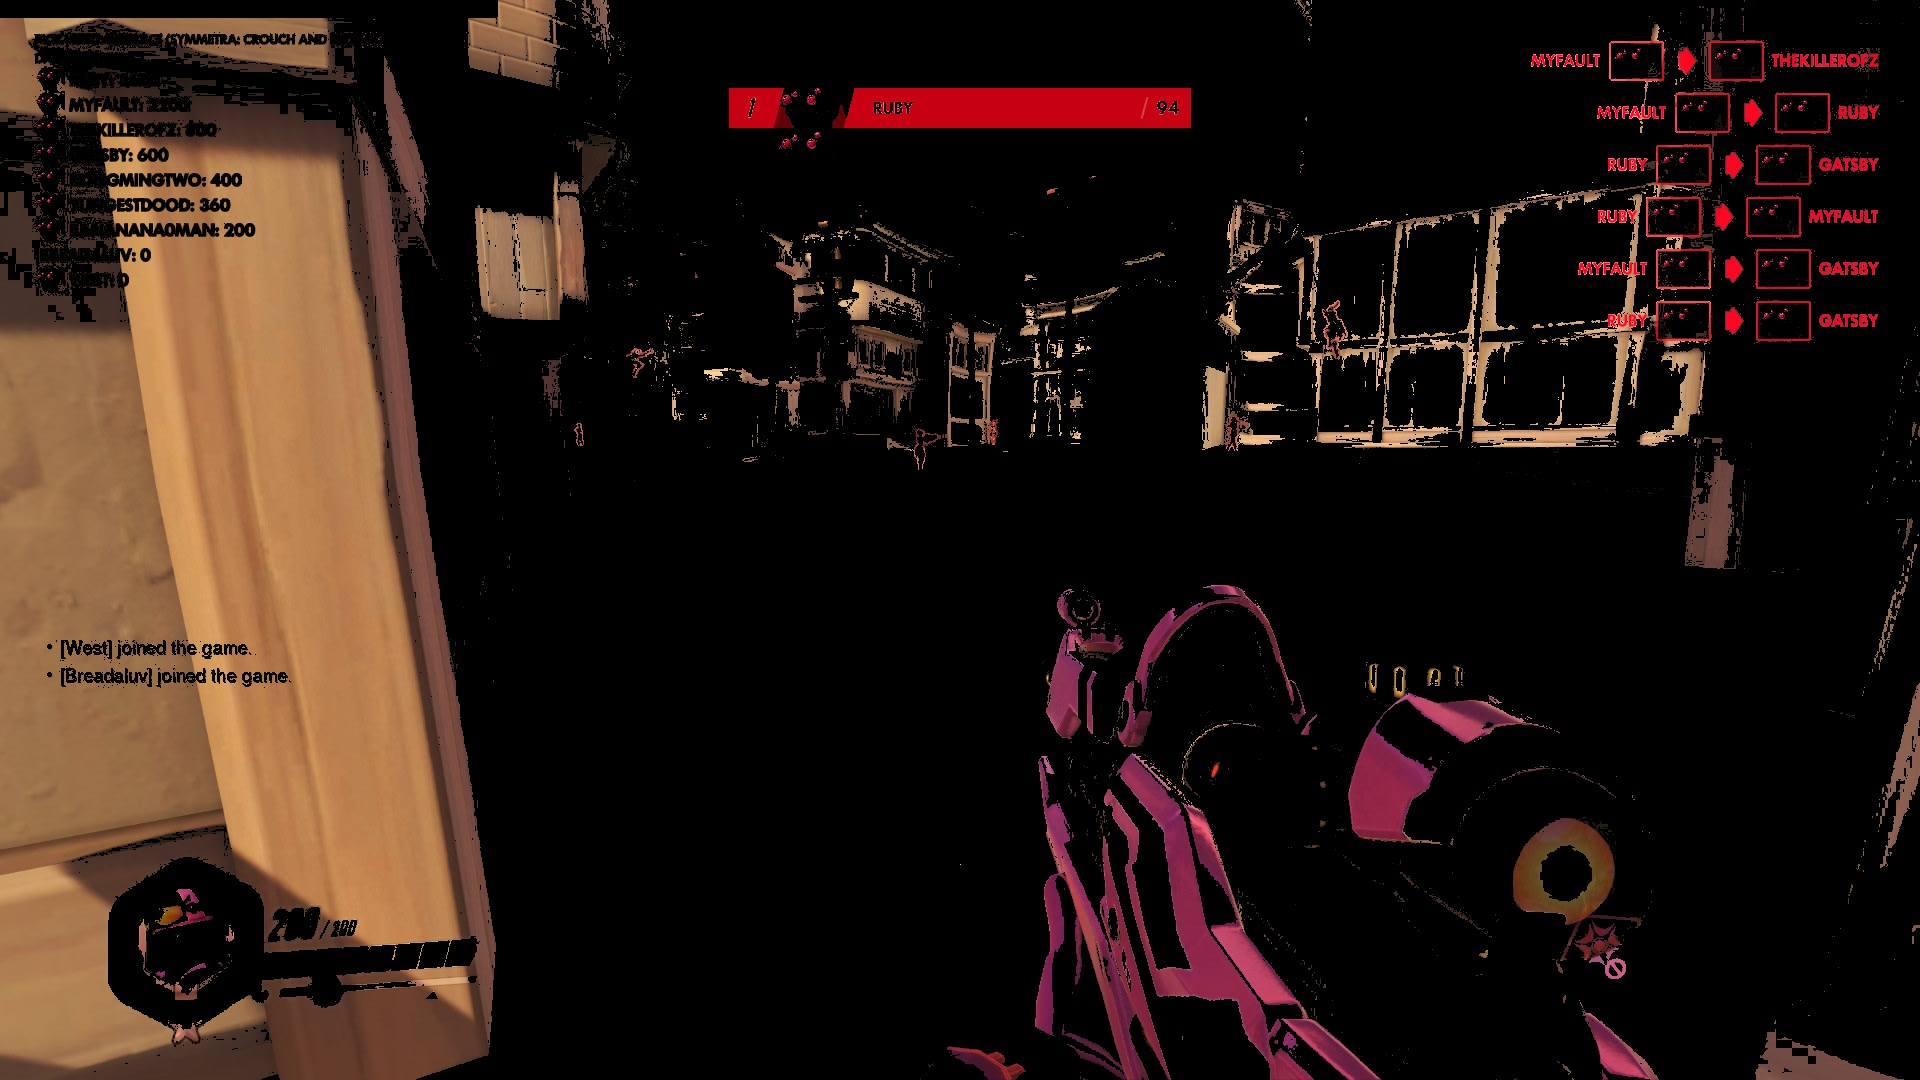widowmaker: (1319, 301, 1357, 357), (909, 425, 942, 473), (1222, 411, 1250, 454), (626, 345, 657, 378), (982, 415, 1002, 448), (571, 418, 591, 448)
